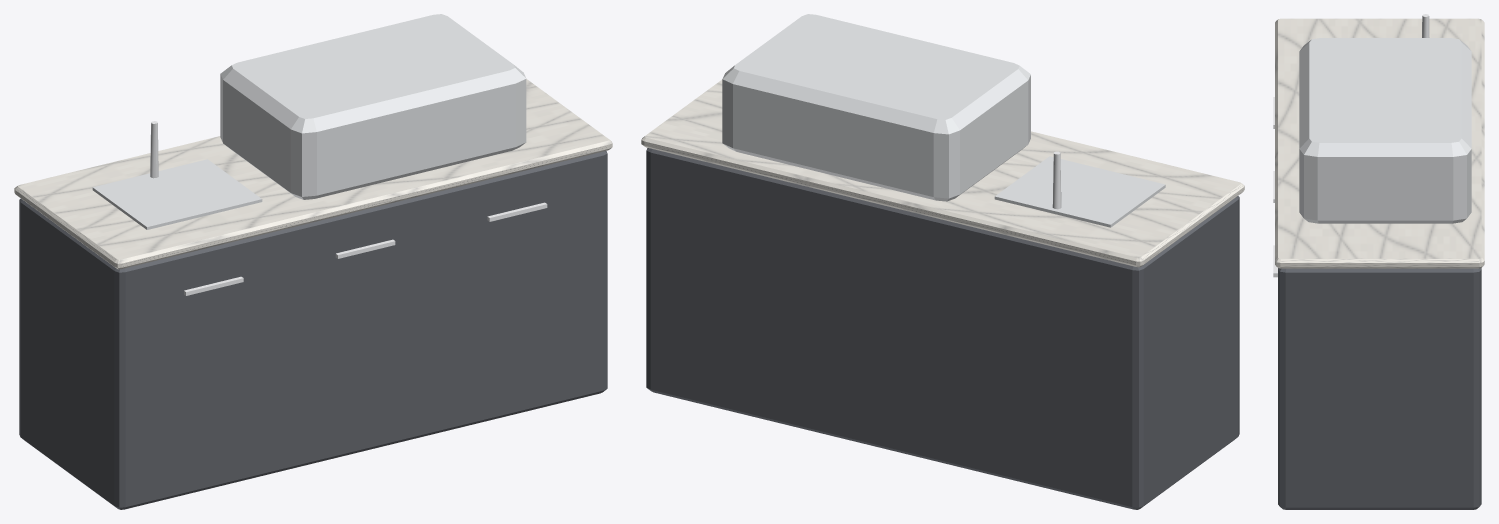
File: outdoor_bbq_station.glb
The picture shows the model from 3 angles, left to right: view 1: azimuth 30°, elevation 25°; view 2: azimuth 150°, elevation 25°; view 3: azimuth 270°, elevation 25°; orthographic projection.
Visible parts, largest first — view 1: outdoor_bbq_station_metalBlack, outdoor_bbq_station_stainlessSteel, outdoor_bbq_station_marbleCarrara, outdoor_bbq_station_metalChrome; view 2: outdoor_bbq_station_metalBlack, outdoor_bbq_station_stainlessSteel, outdoor_bbq_station_marbleCarrara; view 3: outdoor_bbq_station_metalBlack, outdoor_bbq_station_stainlessSteel, outdoor_bbq_station_marbleCarrara, outdoor_bbq_station_metalChrome.
Boxes of the visible parts, x1=… form: outdoor_bbq_station_metalBlack: x1=19, y1=151, x2=607, y2=509; outdoor_bbq_station_stainlessSteel: x1=92, y1=14, x2=526, y2=229; outdoor_bbq_station_marbleCarrara: x1=14, y1=79, x2=612, y2=269; outdoor_bbq_station_metalChrome: x1=150, y1=121, x2=547, y2=295; outdoor_bbq_station_metalBlack: x1=646, y1=148, x2=1239, y2=509; outdoor_bbq_station_stainlessSteel: x1=722, y1=14, x2=1165, y2=227; outdoor_bbq_station_marbleCarrara: x1=641, y1=79, x2=1244, y2=267; outdoor_bbq_station_metalBlack: x1=1278, y1=268, x2=1481, y2=509; outdoor_bbq_station_stainlessSteel: x1=1299, y1=38, x2=1471, y2=223; outdoor_bbq_station_marbleCarrara: x1=1275, y1=18, x2=1484, y2=268; outdoor_bbq_station_metalChrome: x1=1273, y1=14, x2=1429, y2=277.
Size of what is drawn, in the model's own units: 1.85 by 1.18 by 0.68.
Materials: 4 (1 with a texture image).
